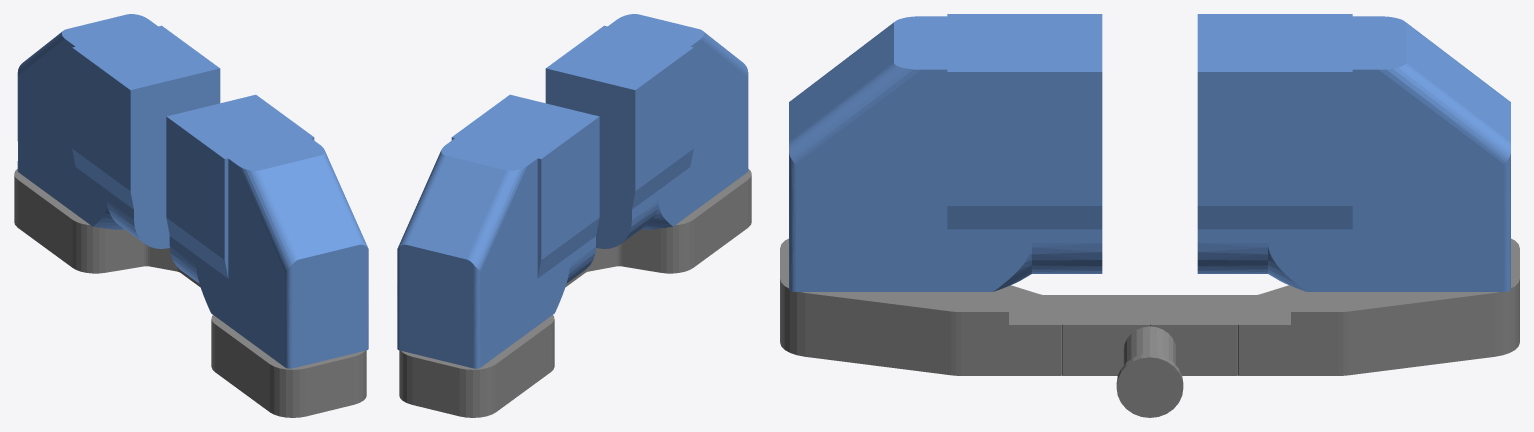
Rendered from body_back.dae.
3 renders of one model, left to right at view 1: azimuth 30°, elevation 25°; view 2: azimuth 150°, elevation 25°; view 3: azimuth 270°, elevation 25°, orthographic. The views are drawn at different scales.
Parts seen in each view (by area): view 1: Shape_IndexedFaceSet, Shape_IndexedFaceSet_002, Shape_IndexedFaceSet_001; view 2: Shape_IndexedFaceSet_002, Shape_IndexedFaceSet, Shape_IndexedFaceSet_001; view 3: Shape_IndexedFaceSet, Shape_IndexedFaceSet_002, Shape_IndexedFaceSet_001.
Boxes of the visible parts, left/top/right/bottom form: Shape_IndexedFaceSet: left=166, top=94, right=368, bottom=368; Shape_IndexedFaceSet_002: left=17, top=14, right=220, bottom=248; Shape_IndexedFaceSet_001: left=14, top=169, right=366, bottom=417; Shape_IndexedFaceSet_002: left=397, top=94, right=599, bottom=368; Shape_IndexedFaceSet: left=545, top=14, right=748, bottom=248; Shape_IndexedFaceSet_001: left=399, top=169, right=751, bottom=417; Shape_IndexedFaceSet: left=789, top=14, right=1102, bottom=291; Shape_IndexedFaceSet_002: left=1197, top=14, right=1510, bottom=291; Shape_IndexedFaceSet_001: left=780, top=238, right=1519, bottom=417.
Bounding box in the file's own units: 0.078 × 0.21 × 0.0911.
